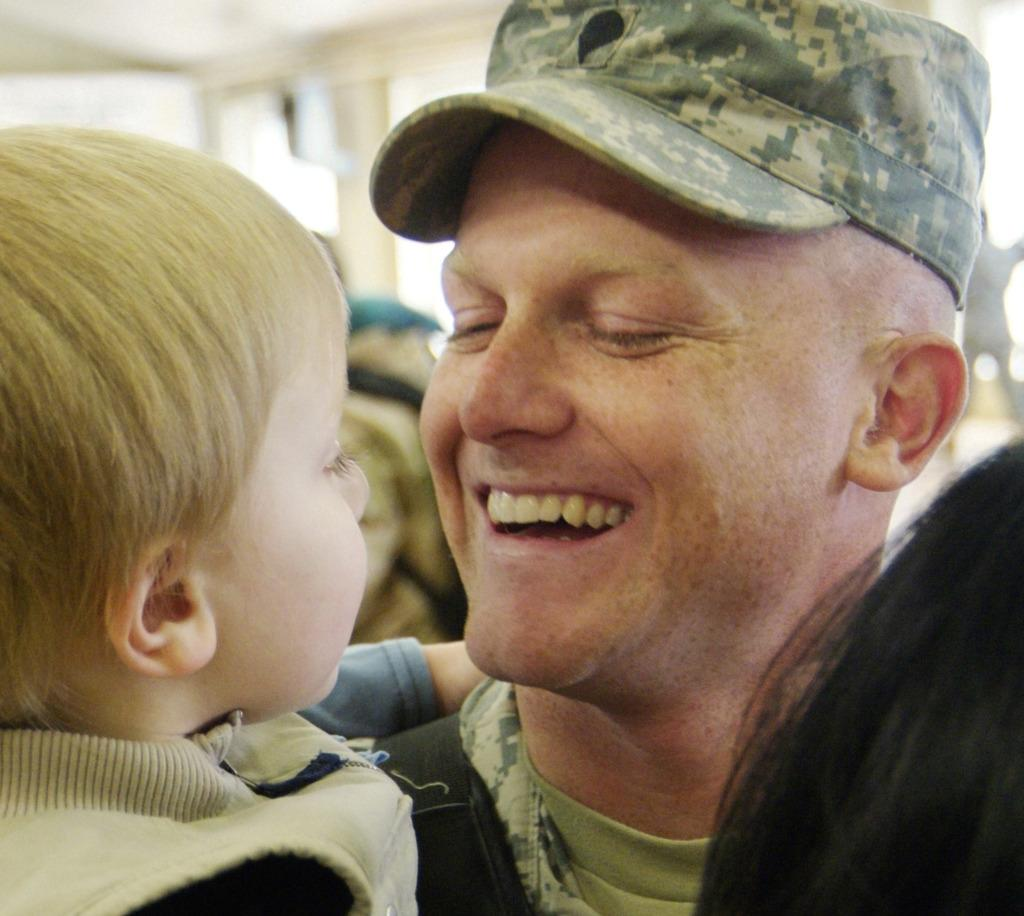Hat: (367, 0, 992, 307)
